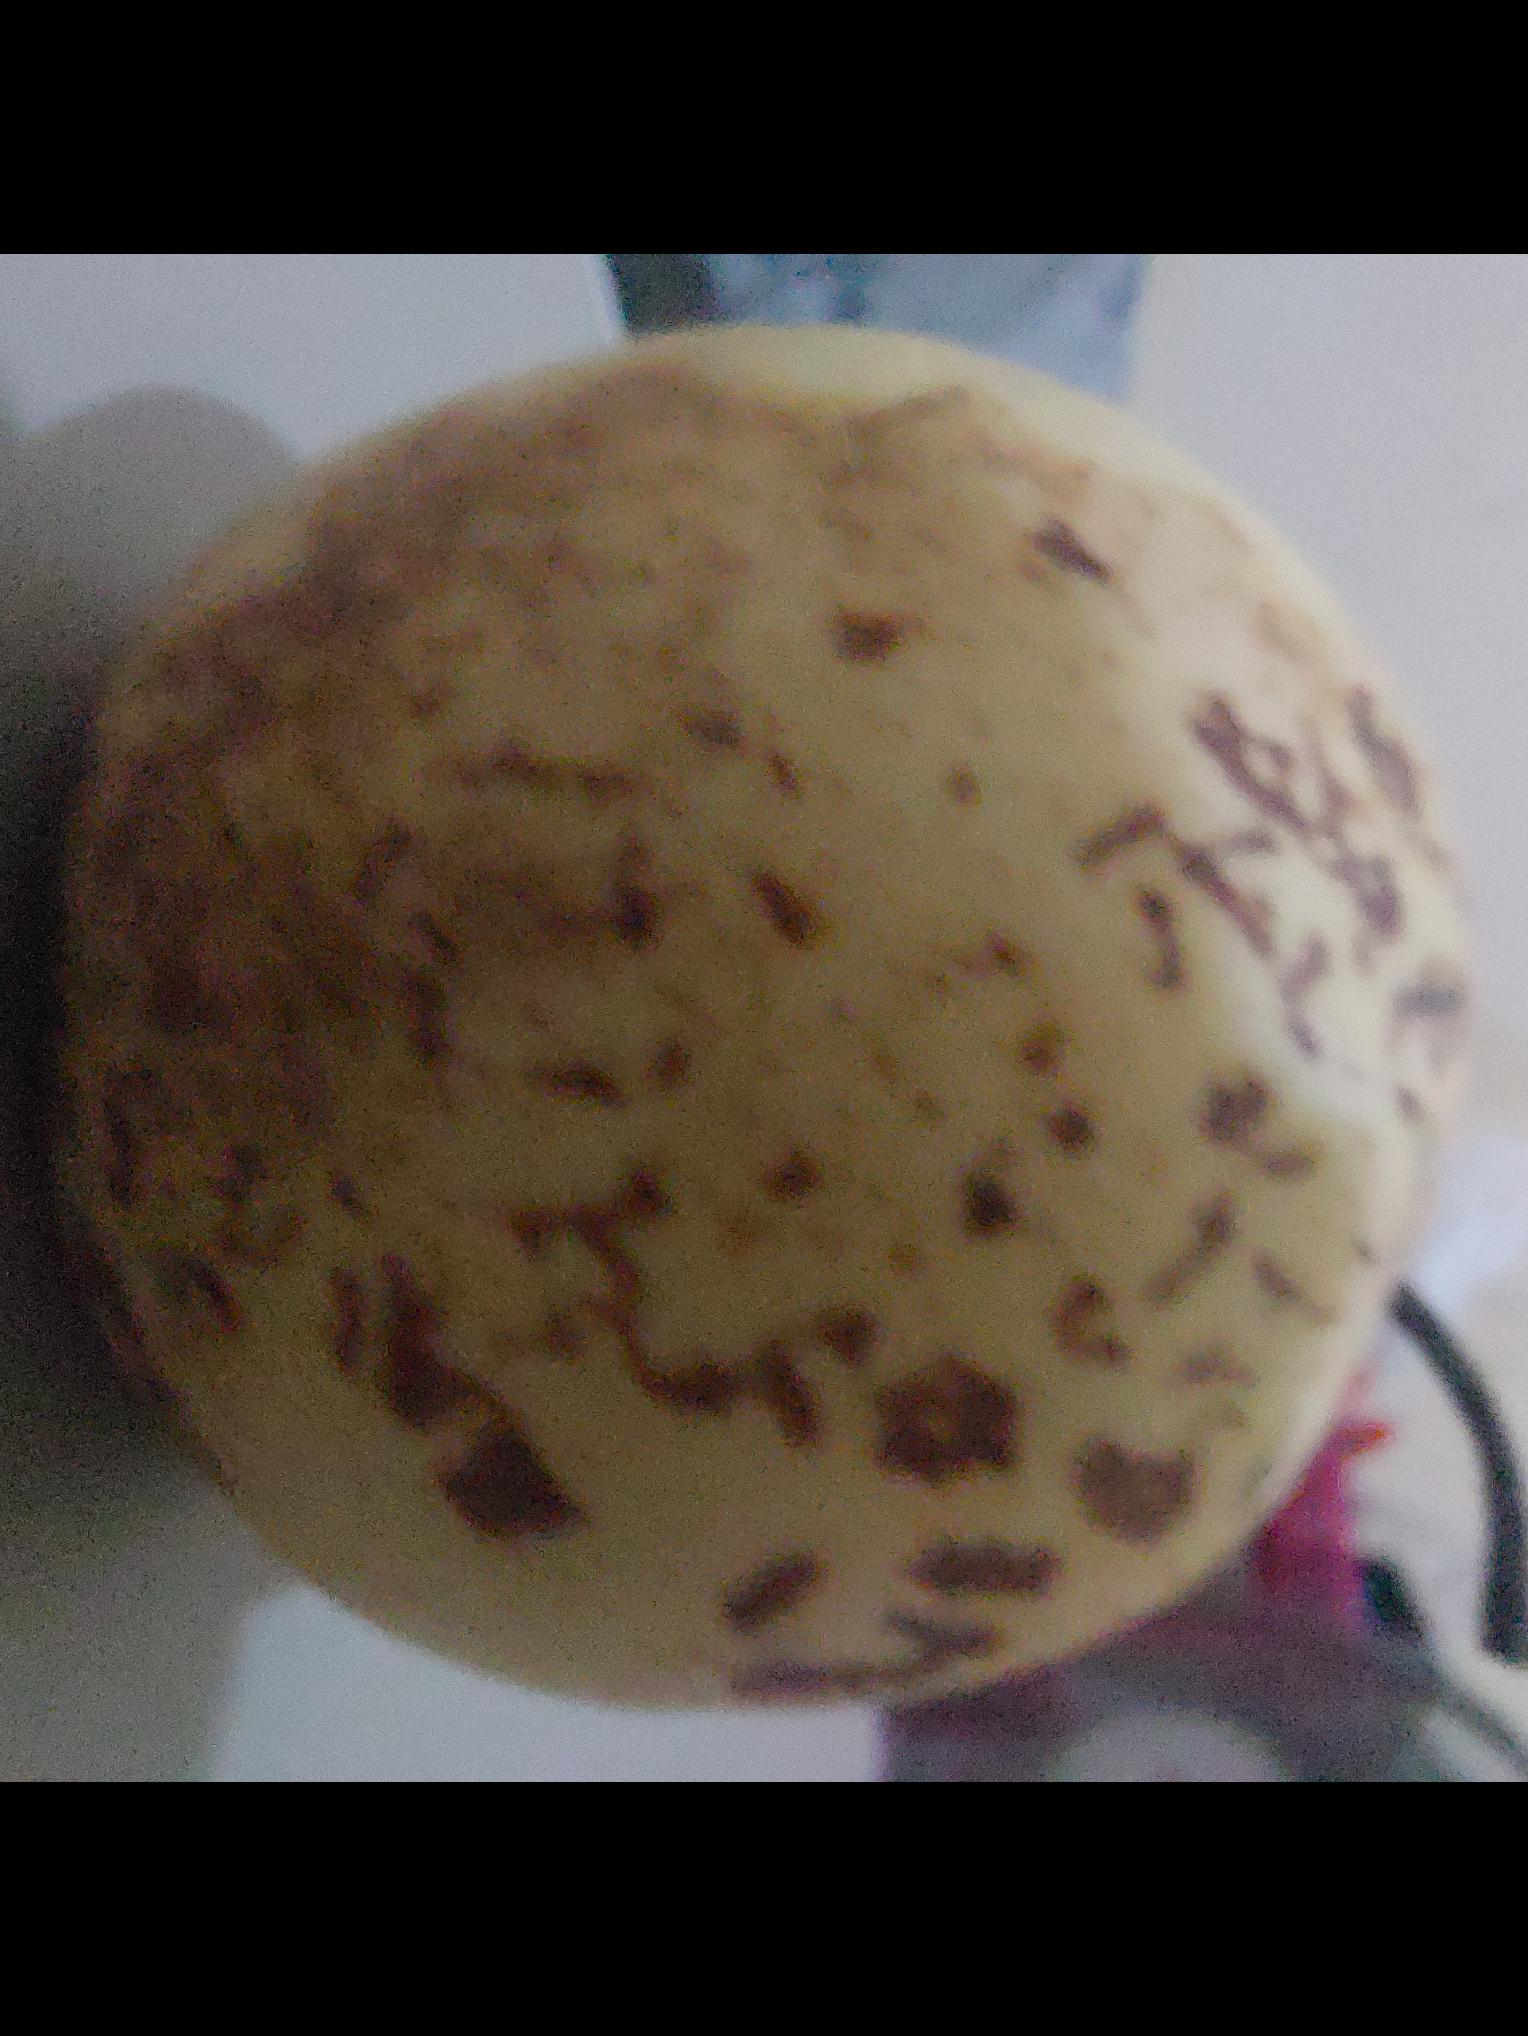Bad Pear: (37, 399, 1467, 1681)
